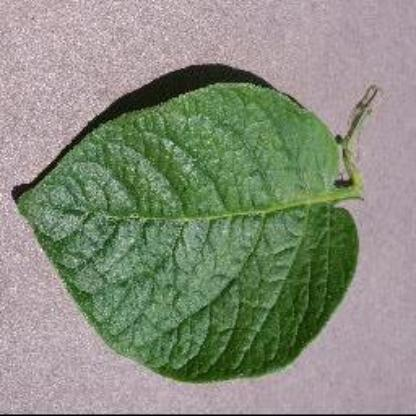Healthy-plant: (9, 43, 382, 408)
